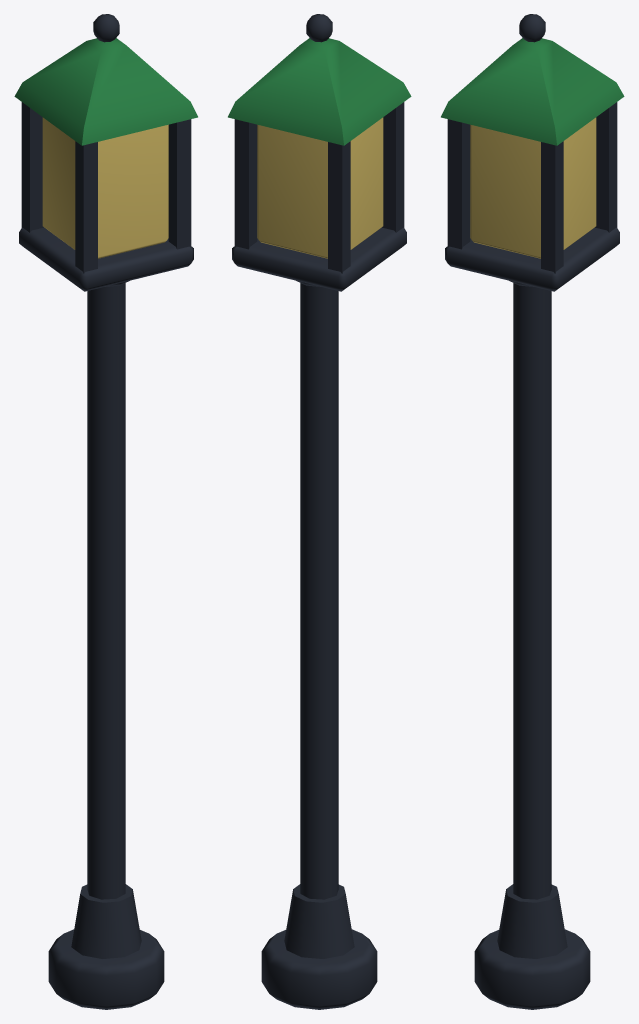
File: mint-lamp.glb
3 views of the same model, side by side, from view 1: azimuth 30°, elevation 25°; view 2: azimuth 150°, elevation 25°; view 3: azimuth 330°, elevation 25° (orthographic).
Parts seen in each view (by area): view 1: mint-lamp; view 2: mint-lamp; view 3: mint-lamp.
Part boxes in pixels (x1=…): mint-lamp: x1=14, y1=14, x2=197, y2=1009; mint-lamp: x1=228, y1=14, x2=411, y2=1009; mint-lamp: x1=441, y1=14, x2=624, y2=1009.
Bounding box in the file's own units: 0.3253 × 2.6 × 0.3253.
